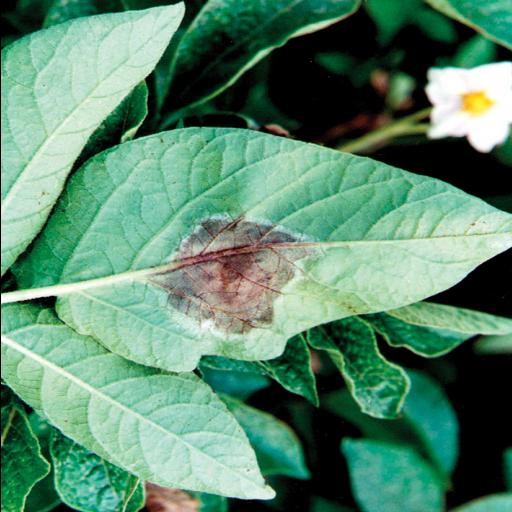Late Blight: (16, 121, 512, 369)
